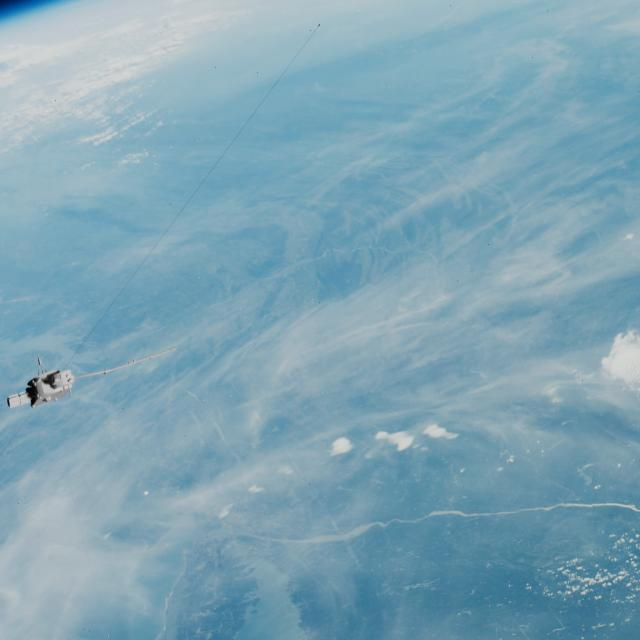satellite: (0, 343, 146, 419)
